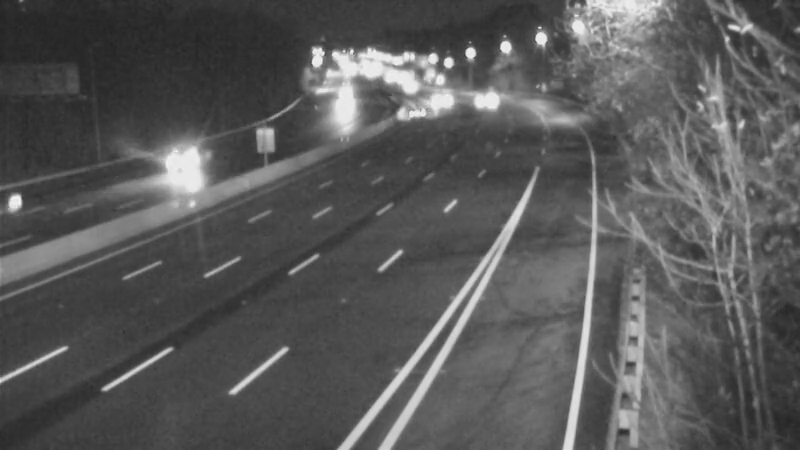vehicle: (145, 125, 225, 205), (1, 162, 68, 242), (424, 69, 474, 119), (452, 73, 502, 123), (381, 89, 431, 139)
